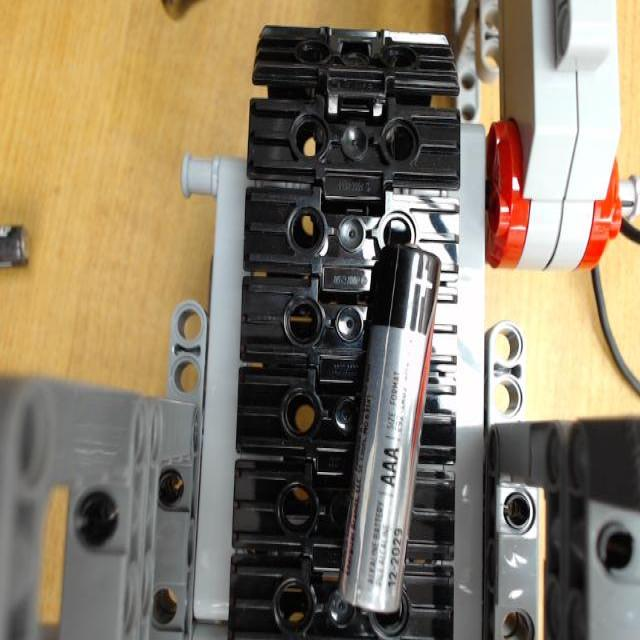AAA: (330, 237, 440, 611)
